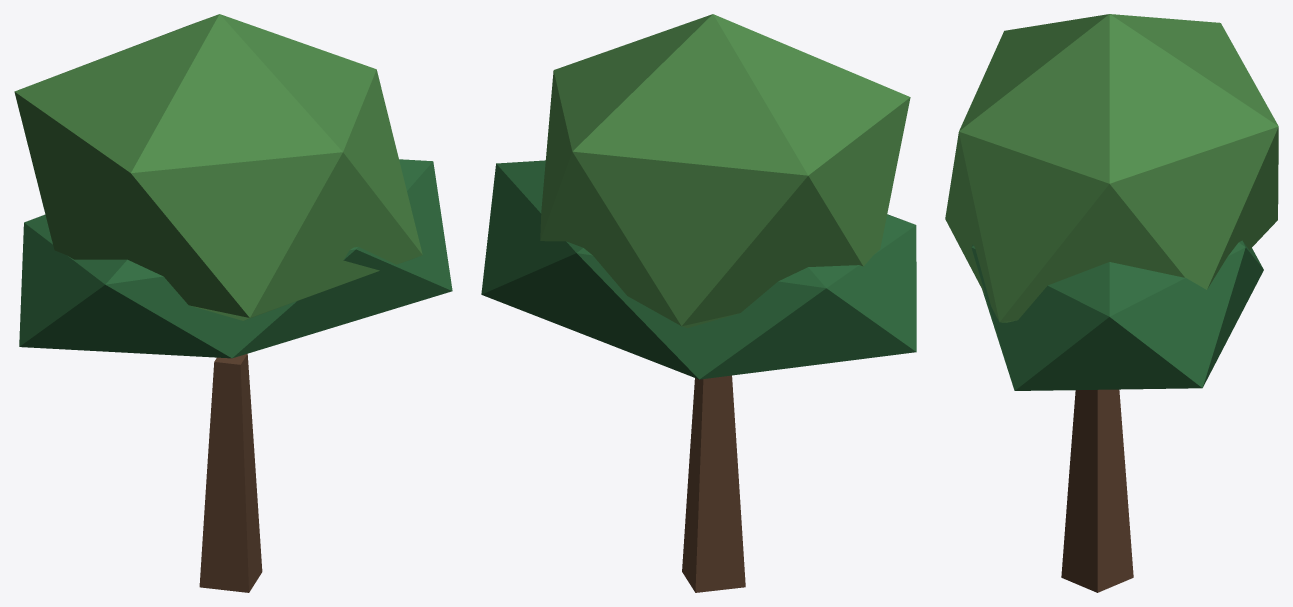
File: tree_oak_b_lod.glb
3 views of the same model, side by side, from view 1: azimuth 30°, elevation 25°; view 2: azimuth 150°, elevation 25°; view 3: azimuth 270°, elevation 25° (orthographic).
Parts seen in each view (by area): view 1: Body; view 2: Body; view 3: Body.
Boxes of the visible parts, x1,y1,x2,y2 form: Body: (14, 14, 452, 592); Body: (481, 14, 916, 592); Body: (945, 14, 1278, 592).
Bounding box in the file's own units: 7.91 × 10.27 × 5.53.
